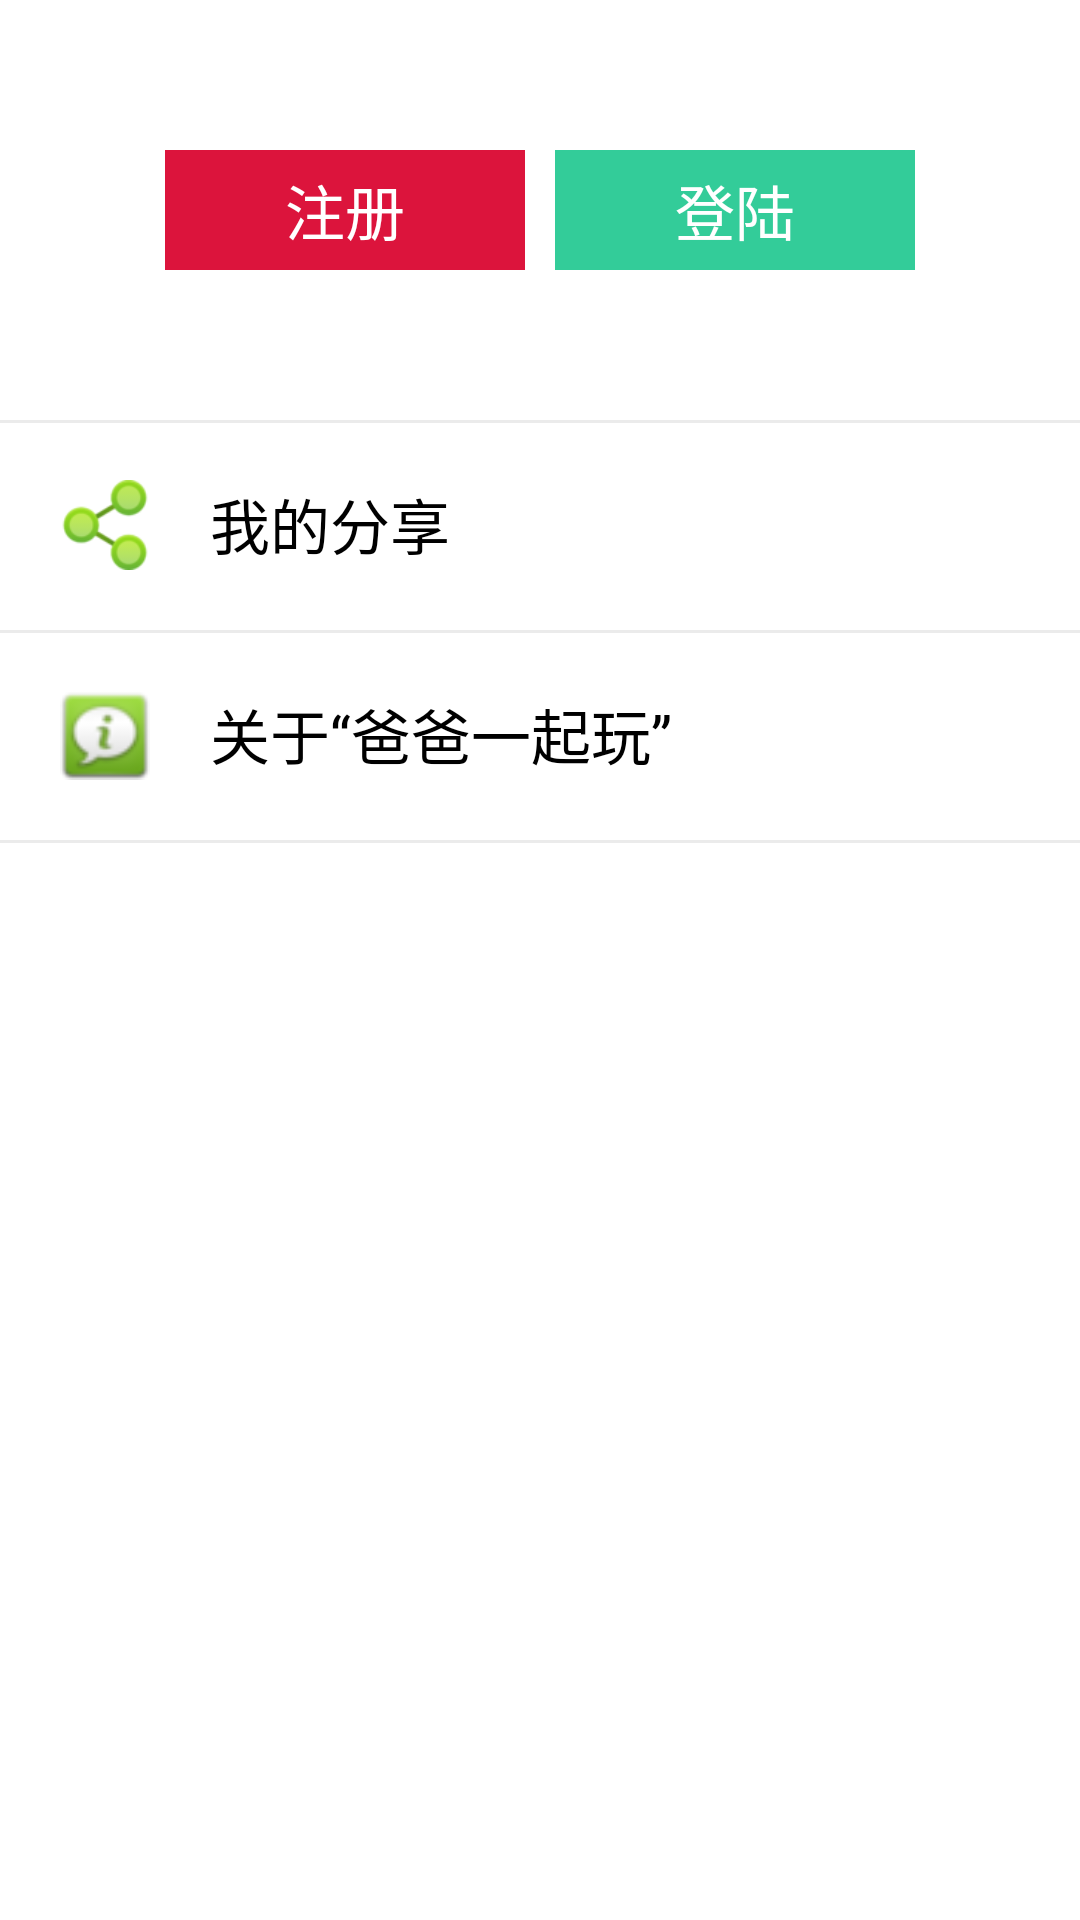

Where to tap for icons on this 1080*1920 app screen, as (x=x, y=y):
about: (x=105, y=737)
myshare: (x=105, y=525)
